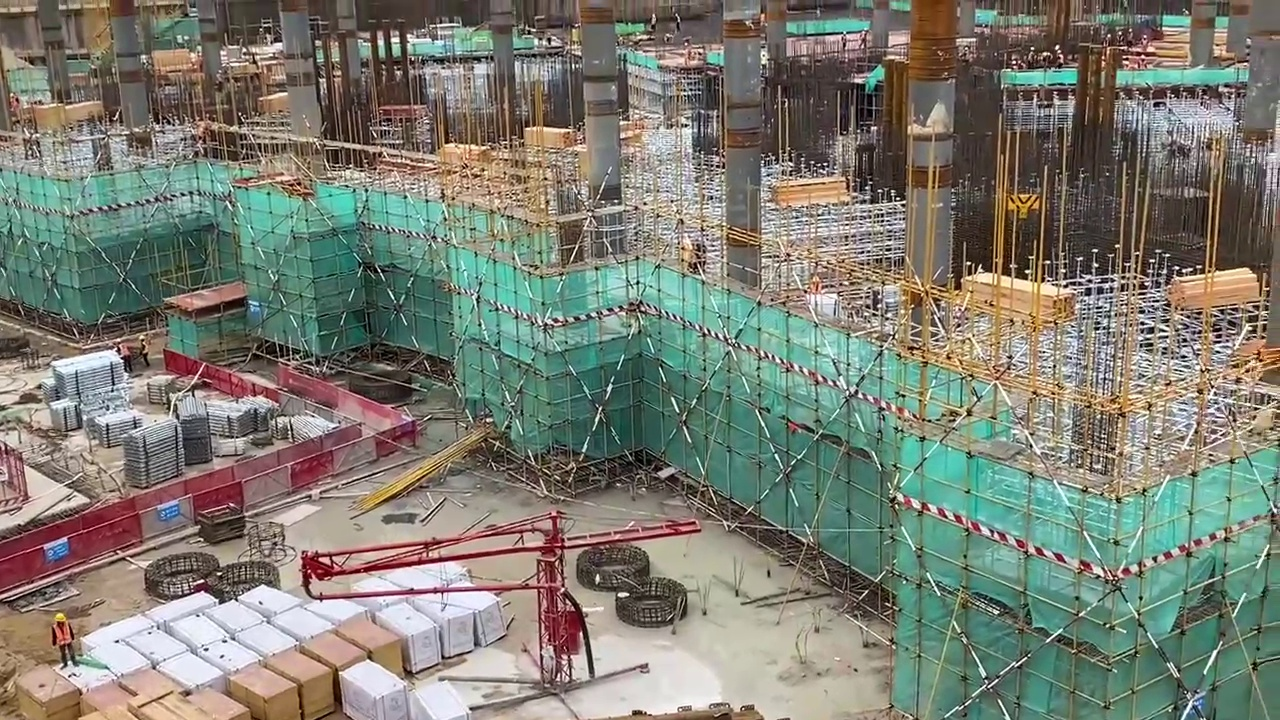board: (248, 612, 409, 720), (16, 661, 88, 720)
fence: (3, 506, 148, 580), (145, 466, 274, 521), (276, 427, 393, 480), (346, 394, 418, 457)
helmet: (54, 613, 64, 622)
hook: (1005, 194, 1039, 215)
person: (48, 610, 77, 667), (111, 333, 133, 371), (136, 333, 151, 366)
scaffold: (124, 420, 181, 486), (55, 351, 121, 394), (176, 394, 212, 463), (98, 408, 143, 450), (211, 400, 257, 437), (46, 392, 88, 431), (278, 411, 330, 437)
vest: (51, 625, 73, 645)
wood: (964, 266, 1076, 329), (1172, 271, 1261, 308)
